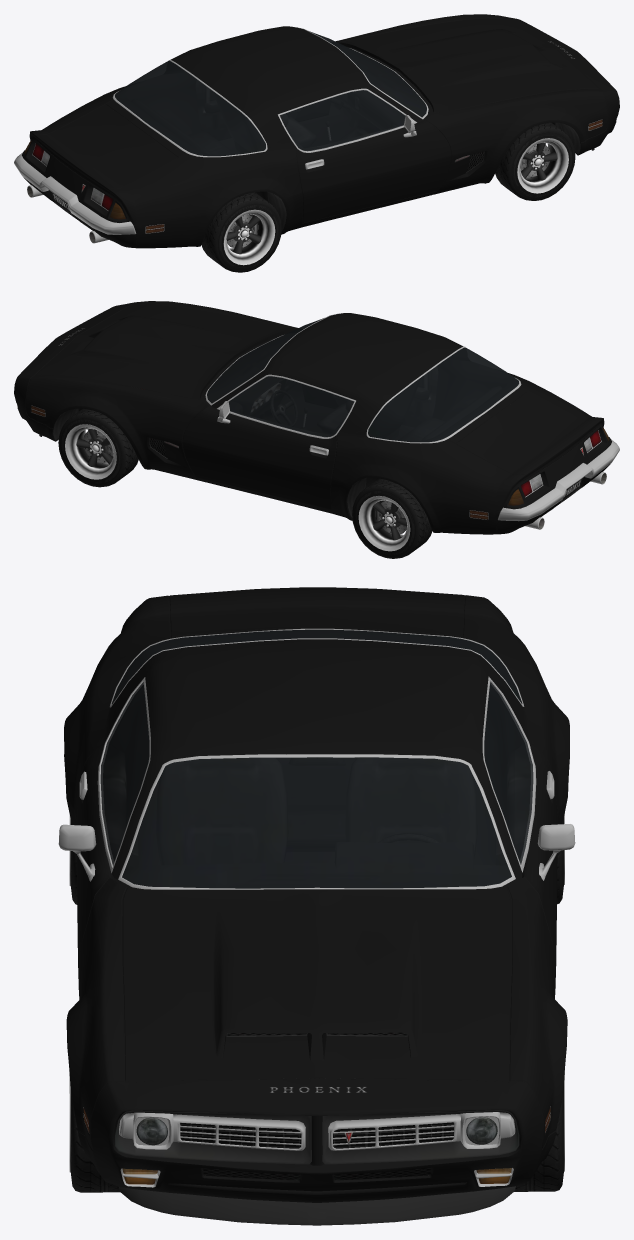
The model's file is phoenix71.glb.
3 renders of one model, top to bottom at view 1: azimuth 30°, elevation 25°; view 2: azimuth 150°, elevation 25°; view 3: azimuth 270°, elevation 25°, orthographic. The views are drawn at different scales.
Parts seen in each view (by area): view 1: Phoenix445_Body_Phoenix445_Bodymat_0, Phoenix445_Interior_UCB_Interiors_2_0, Phoenix445_Hood_Phoenix445_Bodymat_0, Phoenix445_Glass_rear_UCB_Lights_and_Glass_Transperent_0, Phoenix445_Trunkdoor_Phoenix445_Bodymat_0, Phoenix445_Glass_Passenger_UCB_Lights_and_Glass_Transperent_, Phoenix445_WheelStock_RR_RB1c_Tire_1k_0, Phoenix445_WheelStock_FR_RB1c_Tire_1k_0, Phoenix445_Bottom_UCB_BOTTOM_0, Phoenix445_Bumper_rear_UCB_BOTTOM_0, Phoenix445_Windshield_UCB_Lights_and_Glass_Transperent_0, Phoenix445_Taillights_Glass_UCB_Lights_and_Glass_Transperent; view 2: Phoenix445_Body_Phoenix445_Bodymat_0, Phoenix445_Hood_Phoenix445_Bodymat_0, Phoenix445_Interior_UCB_Interiors_2_0, Phoenix445_Glass_rear_UCB_Lights_and_Glass_Transperent_0, Phoenix445_Trunkdoor_Phoenix445_Bodymat_0, Phoenix445_Glass_Driver_UCB_Lights_and_Glass_Transperent_0, Phoenix445_WheelStock_RL_RB1c_Tire_1k_0, Phoenix445_WheelStock_FL_RB1c_Tire_1k_0, Phoenix445_Bottom_UCB_BOTTOM_0, Phoenix445_Bumper_rear_UCB_BOTTOM_0, Phoenix445_Windshield_UCB_Lights_and_Glass_Transperent_0, Phoenix445_Taillights_Glass_UCB_Lights_and_Glass_Transperent (+1 smaller); view 3: Phoenix445_Body_Phoenix445_Bodymat_0, Phoenix445_Hood_Phoenix445_Bodymat_0, Phoenix445_Interior_UCB_Interiors_2_0, Phoenix445_Windshield_UCB_Lights_and_Glass_Transperent_0, Phoenix445_Bottom_UCB_BOTTOM_0, Phoenix445_Trunkdoor_Phoenix445_Bodymat_0, Phoenix445_Glass_Driver_UCB_Lights_and_Glass_Transperent_0, Phoenix445_Glass_Passenger_UCB_Lights_and_Glass_Transperent_, Phoenix445_Glass_rear_UCB_Lights_and_Glass_Transperent_0, Phoenix445_WheelStock_FR_RB1c_Tire_1k_0, Phoenix445_WheelStock_FL_RB1c_Tire_1k_0, Phoenix445_Headlights_glass_UCB_Lights_and_Glass_Transperent (+2 smaller).
Part boxes in pixels (x1,y1,x2,y2): Phoenix445_Body_Phoenix445_Bodymat_0: (22, 14, 619, 248); Phoenix445_Interior_UCB_Interiors_2_0: (115, 47, 426, 155); Phoenix445_Hood_Phoenix445_Bodymat_0: (339, 18, 598, 112); Phoenix445_Glass_rear_UCB_Lights_and_Glass_Transperent_0: (115, 61, 265, 156); Phoenix445_Trunkdoor_Phoenix445_Bodymat_0: (35, 104, 178, 194); Phoenix445_Glass_Passenger_UCB_Lights_and_Glass_Transperent_: (280, 90, 405, 151); Phoenix445_WheelStock_RR_RB1c_Tire_1k_0: (201, 192, 281, 272); Phoenix445_WheelStock_FR_RB1c_Tire_1k_0: (495, 122, 575, 200); Phoenix445_Bottom_UCB_BOTTOM_0: (27, 27, 602, 243); Phoenix445_Bumper_rear_UCB_BOTTOM_0: (14, 152, 136, 234); Phoenix445_Windshield_UCB_Lights_and_Glass_Transperent_0: (309, 31, 426, 117); Phoenix445_Taillights_Glass_UCB_Lights_and_Glass_Transperent: (24, 141, 163, 233); Phoenix445_Body_Phoenix445_Bodymat_0: (14, 301, 611, 534); Phoenix445_Hood_Phoenix445_Bodymat_0: (35, 305, 294, 398); Phoenix445_Interior_UCB_Interiors_2_0: (207, 334, 518, 443); Phoenix445_Glass_rear_UCB_Lights_and_Glass_Transperent_0: (368, 347, 518, 442); Phoenix445_Trunkdoor_Phoenix445_Bodymat_0: (456, 391, 599, 480); Phoenix445_Glass_Driver_UCB_Lights_and_Glass_Transperent_0: (228, 376, 354, 437); Phoenix445_WheelStock_RL_RB1c_Tire_1k_0: (352, 478, 432, 558); Phoenix445_WheelStock_FL_RB1c_Tire_1k_0: (58, 408, 138, 487); Phoenix445_Bottom_UCB_BOTTOM_0: (31, 313, 606, 529); Phoenix445_Bumper_rear_UCB_BOTTOM_0: (498, 439, 619, 521); Phoenix445_Windshield_UCB_Lights_and_Glass_Transperent_0: (207, 318, 323, 403); Phoenix445_Taillights_Glass_UCB_Lights_and_Glass_Transperent: (469, 428, 609, 519); Phoenix445_Body_Phoenix445_Bodymat_0: (64, 595, 569, 1202); Phoenix445_Hood_Phoenix445_Bodymat_0: (122, 887, 511, 1081); Phoenix445_Interior_UCB_Interiors_2_0: (103, 630, 530, 888); Phoenix445_Windshield_UCB_Lights_and_Glass_Transperent_0: (122, 757, 511, 888); Phoenix445_Bottom_UCB_BOTTOM_0: (58, 628, 575, 1225); Phoenix445_Trunkdoor_Phoenix445_Bodymat_0: (169, 587, 464, 636); Phoenix445_Glass_Driver_UCB_Lights_and_Glass_Transperent_0: (484, 681, 533, 864); Phoenix445_Glass_Passenger_UCB_Lights_and_Glass_Transperent_: (100, 682, 149, 865); Phoenix445_Glass_rear_UCB_Lights_and_Glass_Transperent_0: (111, 629, 522, 704); Phoenix445_WheelStock_FR_RB1c_Tire_1k_0: (69, 1072, 119, 1192); Phoenix445_WheelStock_FL_RB1c_Tire_1k_0: (514, 1070, 564, 1191); Phoenix445_Headlights_glass_UCB_Lights_and_Glass_Transperent: (136, 1117, 497, 1145).
Size of the model in its own units: 4.89 by 1.33 by 2.09.
8 materials, 7 textured.
